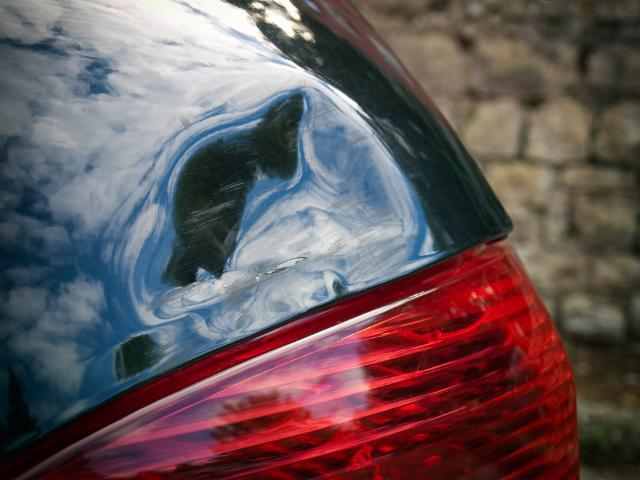dent: (142, 87, 421, 335)
